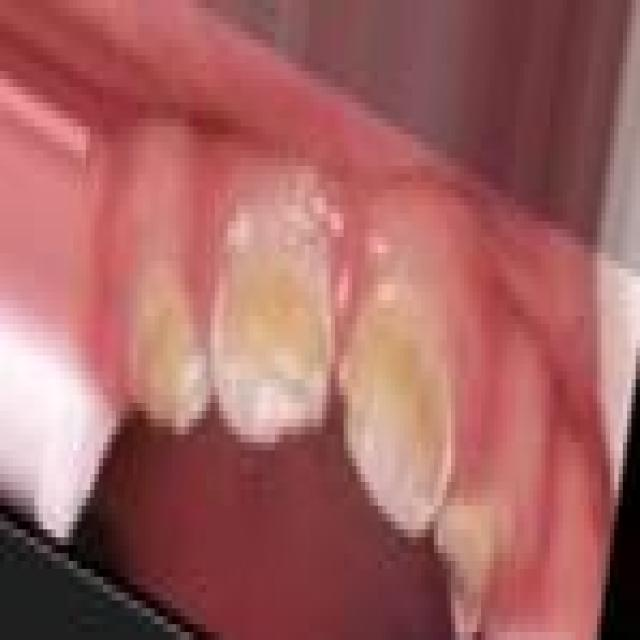caries: (209, 211, 331, 442), (339, 290, 446, 544), (124, 268, 210, 446), (429, 497, 497, 640)
